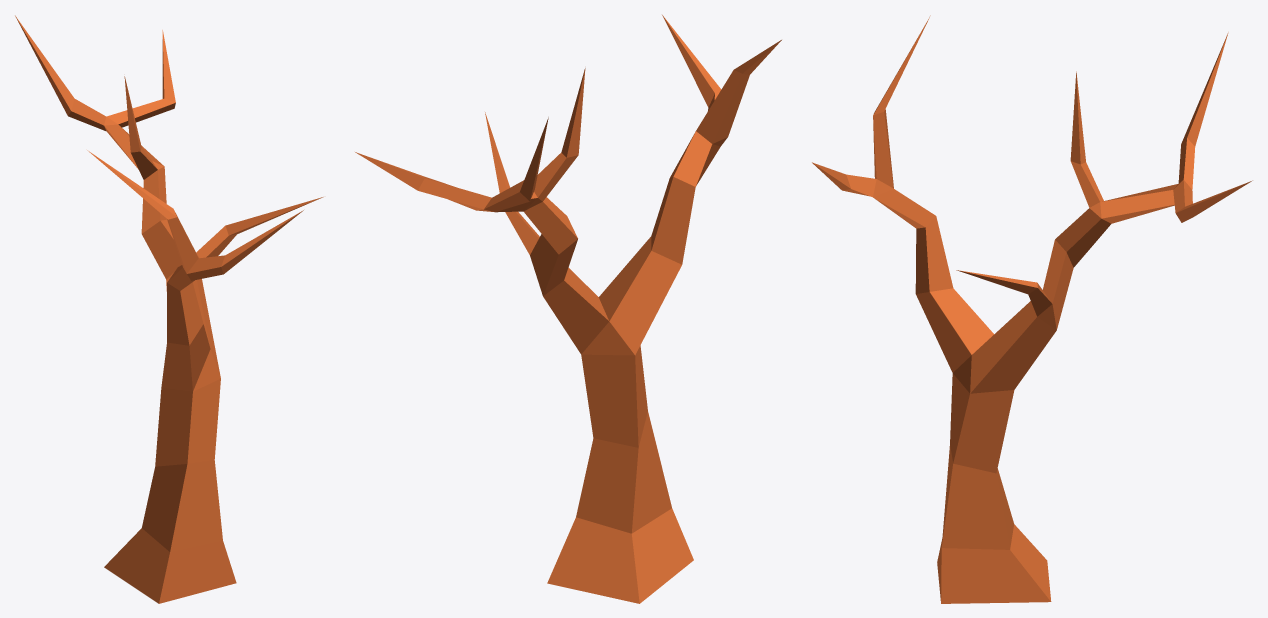
The model's file is RAS_Tree03.fbx.
3 renders of one model, left to right at view 1: azimuth 30°, elevation 25°; view 2: azimuth 150°, elevation 25°; view 3: azimuth 270°, elevation 25°, orthographic. The views are drawn at different scales.
Visible parts, largest first — view 1: RAS_Tree03; view 2: RAS_Tree03; view 3: RAS_Tree03.
Boxes of the visible parts, x1,y1,x2,y2 form: RAS_Tree03: (15,15,323,603); RAS_Tree03: (355,15,781,603); RAS_Tree03: (812,15,1252,603).
Size of the model in its own units: 124 by 233 by 177.
Materials: 1 (1 with a texture image).
